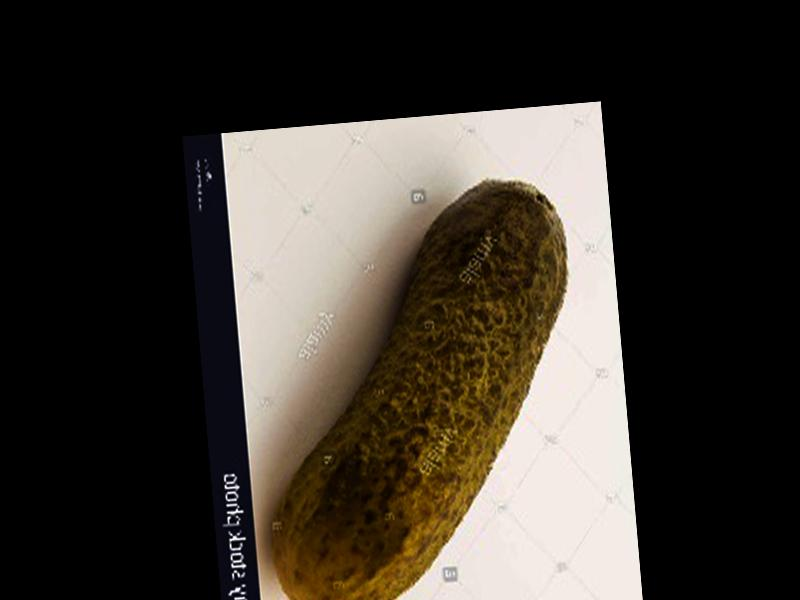Cucumber: (245, 176, 594, 600)
